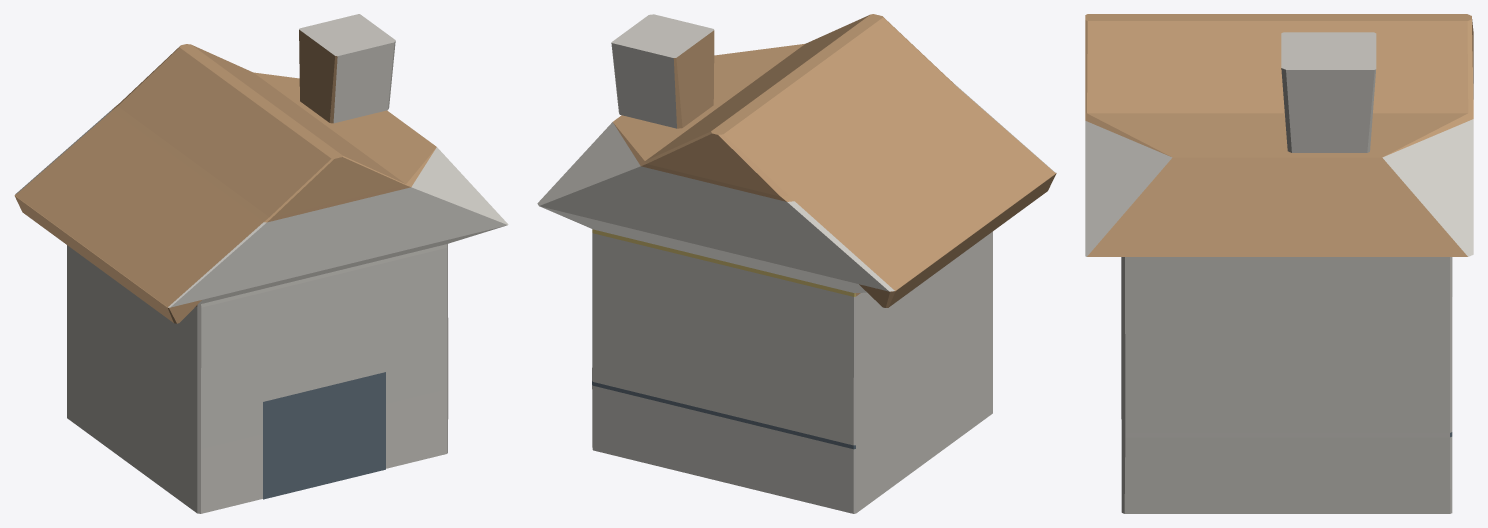
File: loin.glb
3 renders of one model, left to right at view 1: azimuth 30°, elevation 25°; view 2: azimuth 150°, elevation 25°; view 3: azimuth 270°, elevation 25°, orthographic. The views are drawn at different scales.
Visible parts, largest first — view 1: loin; view 2: loin; view 3: loin.
Part boxes in pixels (<box>): loin: <box>14,14,508,513</box>; loin: <box>537,14,1056,513</box>; loin: <box>1085,14,1473,513</box>.
Size of the model in its own units: 0.9214 by 0.9347 by 0.7286.
